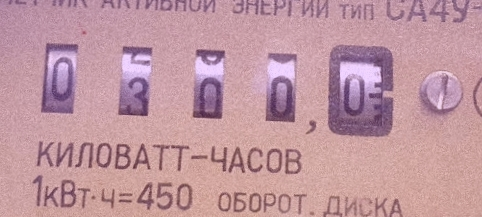0: (338, 69, 368, 119), (47, 51, 75, 104), (193, 71, 222, 120), (264, 73, 294, 120)
3: (121, 72, 151, 116)
screen: (19, 25, 403, 146)
